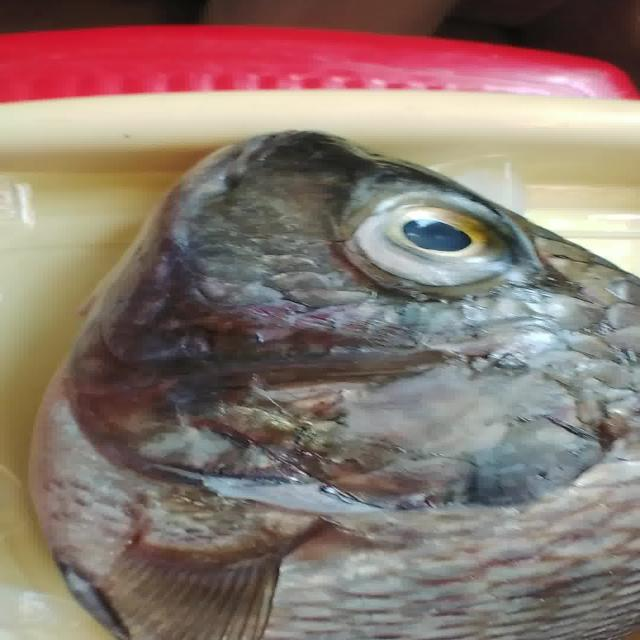Fresh: (306, 174, 561, 312)
